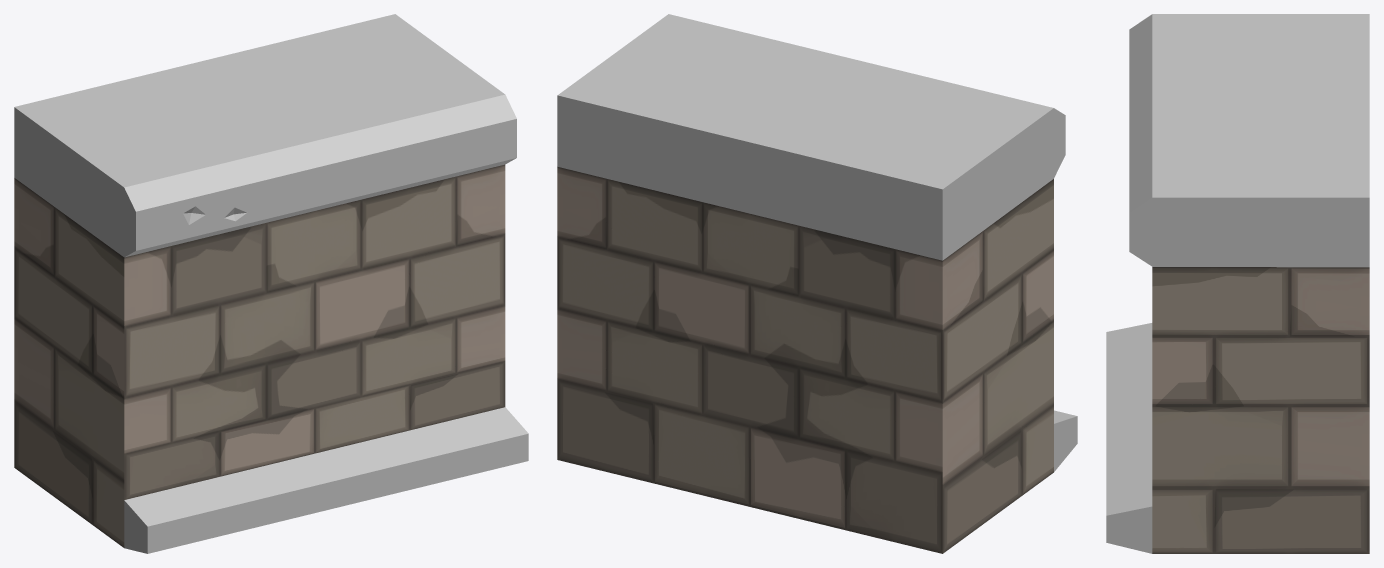
The model's file is SM_Bld_Tunnel_Straight_End_02.fbx.
3 renders of one model, left to right at view 1: azimuth 30°, elevation 25°; view 2: azimuth 150°, elevation 25°; view 3: azimuth 270°, elevation 25°, orthographic. The views are drawn at different scales.
Visible parts, largest first — view 1: SM_Bld_Tunnel_Straight_End_02; view 2: SM_Bld_Tunnel_Straight_End_02; view 3: SM_Bld_Tunnel_Straight_End_02.
Part boxes in pixels (<box>): SM_Bld_Tunnel_Straight_End_02: <box>14,14,528,553</box>; SM_Bld_Tunnel_Straight_End_02: <box>557,14,1077,553</box>; SM_Bld_Tunnel_Straight_End_02: <box>1106,14,1369,553</box>.
Bounding box in the file's own units: 250 × 226 × 152.
